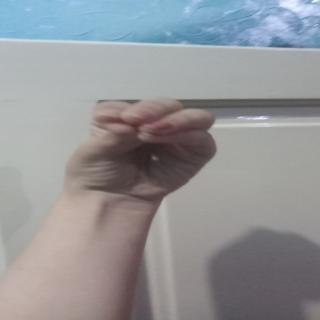HA: (56, 89, 235, 198)
